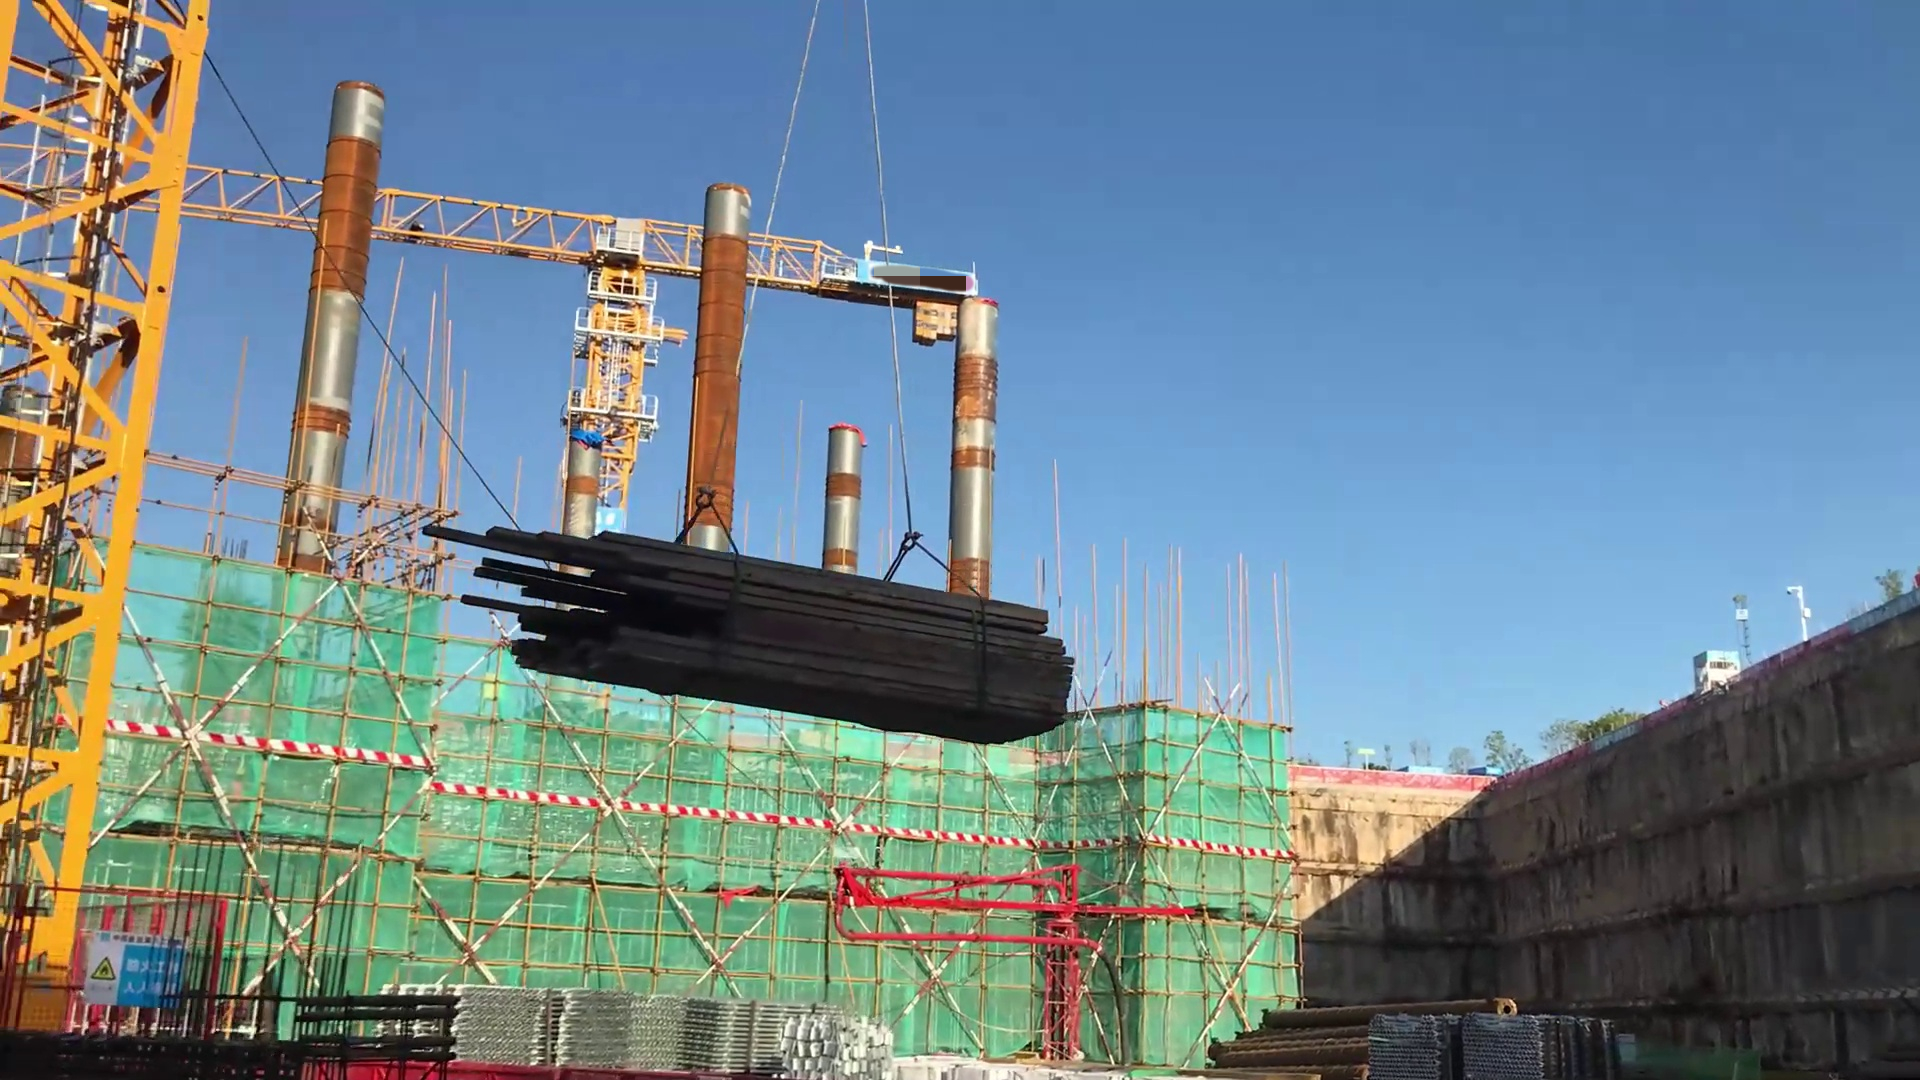scaffold: (357, 963, 855, 1076)
wood: (407, 508, 1079, 753)
